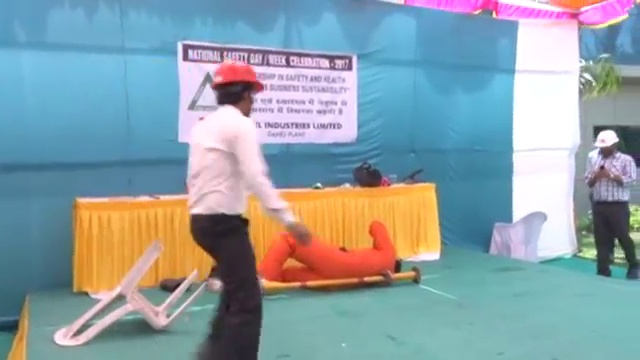helmet: (209, 60, 264, 95), (591, 128, 620, 148)
helmet_on: (208, 59, 264, 119), (591, 128, 620, 159)
person: (183, 60, 314, 360), (238, 221, 408, 283), (587, 127, 640, 282)
